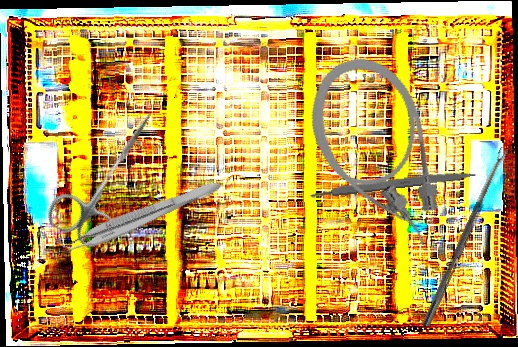Cannula: (295, 45, 459, 267)
Iris Scissors: (41, 93, 178, 255)
Scalpel Handle: (306, 167, 478, 200)
Surgical Spoon: (421, 146, 510, 329)
Tissue Forceps: (54, 169, 225, 262)
